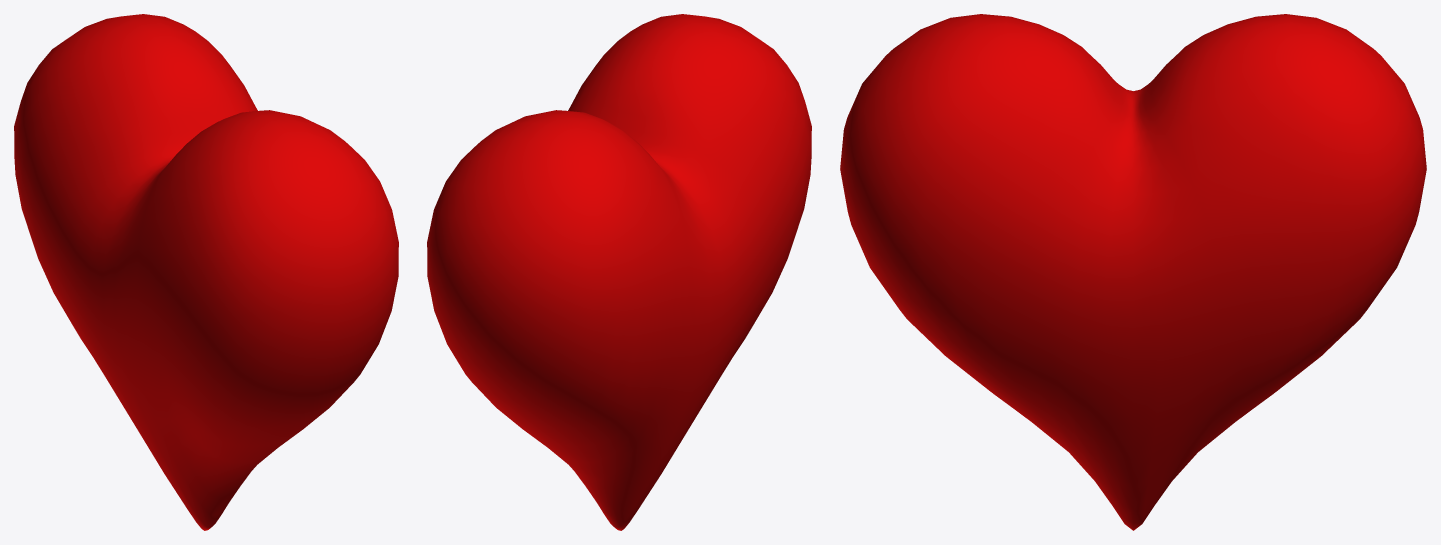
Rendered from Heart.fbx.
3 renders of one model, left to right at view 1: azimuth 30°, elevation 25°; view 2: azimuth 150°, elevation 25°; view 3: azimuth 270°, elevation 25°, orthographic. The views are drawn at different scales.
Parts seen in each view (by area): view 1: Box005; view 2: Box005; view 3: Box005.
Part boxes in pixels (x1,y1,x2,y2): Box005: (14, 14, 398, 530); Box005: (427, 14, 811, 530); Box005: (840, 14, 1426, 530).
Size of the model in its own units: 433 by 880 by 926.
